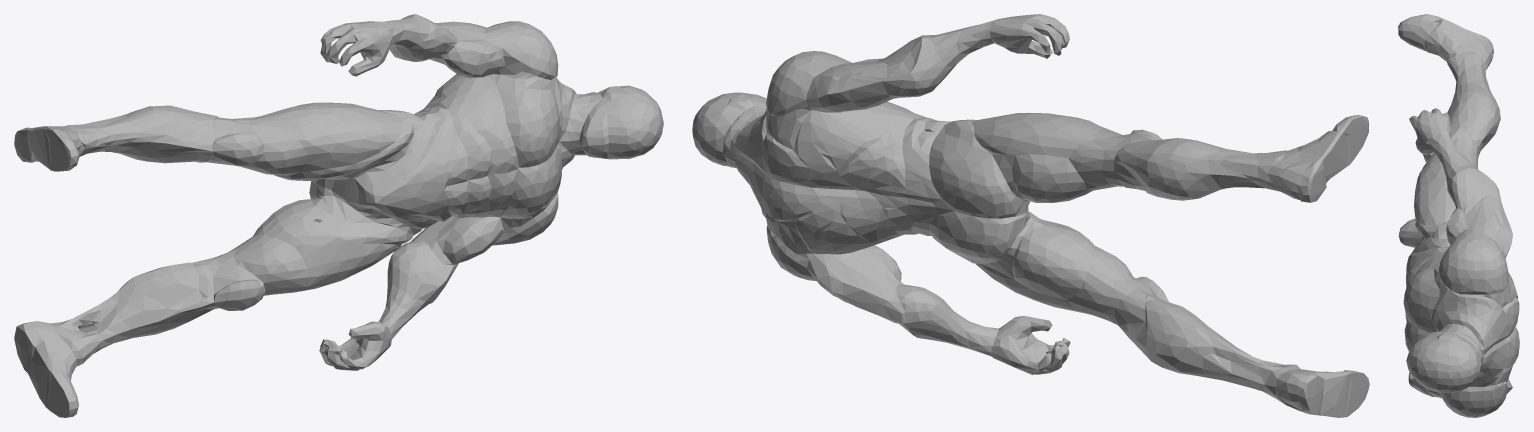
The model's file is enforcer_trellis.glb.
3 views of the same model, side by side, from view 1: azimuth 30°, elevation 25°; view 2: azimuth 150°, elevation 25°; view 3: azimuth 270°, elevation 25° (orthographic). The views are drawn at different scales.
Bounding box in the file's own units: 1 × 0.5278 × 0.2081.
Materials: 1 (1 with a texture image).
